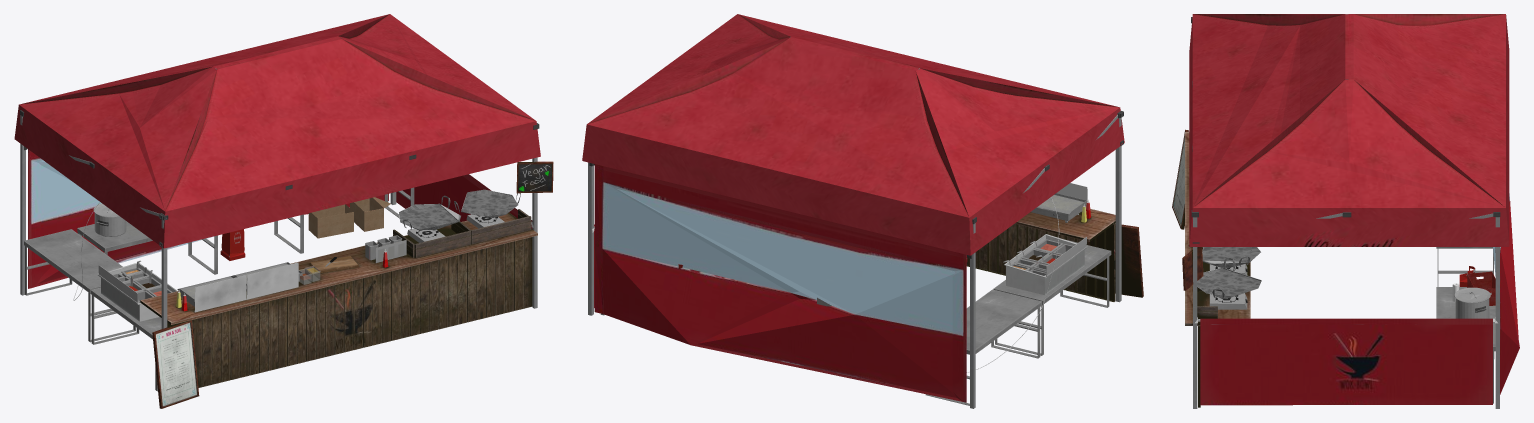
Rendered from uchin.glb.
3 views of the same model, side by side, from view 1: azimuth 30°, elevation 25°; view 2: azimuth 150°, elevation 25°; view 3: azimuth 270°, elevation 25° (orthographic). The views are drawn at different scales.
Visible parts, largest first — view 1: Plane.002_36, FS_WoodPanels_28, FS_base_21, Cube_8, FS_Tables_26, FS_Bigsign_22, Cube.033_14, Cube.010_12, FS_boxes_23, Plane.010_37, FS_Tables.001_27, Sphere.001_57 (+6 smaller); view 2: Plane.002_36, FS_base_21, FS_Tables_26, FS_WoodPanels_28, Cube.010_12, Cube.047_18, Cube_8, FS_Bigsign_22, Circle.002_1; view 3: Plane.002_36, FS_base_21, Cube.010_12, Sphere.002_58, Cube_8, FS_Tables.001_27, Sphere.001_57, NurbsPath.001_29, FS_Bigsign_22, FS_SmallSign_25, FS_crates_24.
Boxes of the visible parts, bbox=[...] form: Plane.002_36: bbox=[14, 14, 540, 248]; FS_WoodPanels_28: bbox=[167, 237, 532, 387]; FS_base_21: bbox=[28, 149, 532, 288]; Cube_8: bbox=[140, 212, 537, 324]; FS_Tables_26: bbox=[24, 229, 161, 391]; FS_Bigsign_22: bbox=[152, 320, 199, 408]; Cube.033_14: bbox=[194, 262, 298, 312]; Cube.010_12: bbox=[20, 38, 539, 328]; FS_boxes_23: bbox=[308, 197, 390, 238]; Plane.010_37: bbox=[393, 209, 531, 257]; FS_Tables.001_27: bbox=[77, 187, 414, 274]; Sphere.001_57: bbox=[399, 195, 460, 242]; Plane.002_36: bbox=[582, 14, 1124, 255]; FS_base_21: bbox=[594, 164, 967, 402]; FS_Tables_26: bbox=[925, 239, 1111, 405]; FS_WoodPanels_28: bbox=[966, 223, 1115, 301]; Cube.010_12: bbox=[588, 37, 1123, 408]; Cube.047_18: bbox=[1004, 234, 1087, 295]; Cube_8: bbox=[1015, 209, 1115, 241]; FS_Bigsign_22: bbox=[1115, 224, 1143, 297]; Circle.002_1: bbox=[1031, 193, 1086, 222]; Plane.002_36: bbox=[1189, 14, 1509, 246]; FS_base_21: bbox=[1200, 193, 1519, 405]; Cube.010_12: bbox=[1191, 14, 1500, 408]; Sphere.002_58: bbox=[1197, 258, 1261, 309]; Cube_8: bbox=[1185, 132, 1250, 325]; FS_Tables.001_27: bbox=[1436, 247, 1495, 403]; Sphere.001_57: bbox=[1202, 247, 1260, 275]; NurbsPath.001_29: bbox=[1454, 287, 1490, 318]; FS_Bigsign_22: bbox=[1172, 129, 1188, 229]; FS_SmallSign_25: bbox=[1182, 247, 1203, 290]; FS_crates_24: bbox=[1467, 271, 1495, 305].
Size of the model in its own units: 5.35 by 3.17 by 3.78.
Materials: 18 (16 with a texture image).
